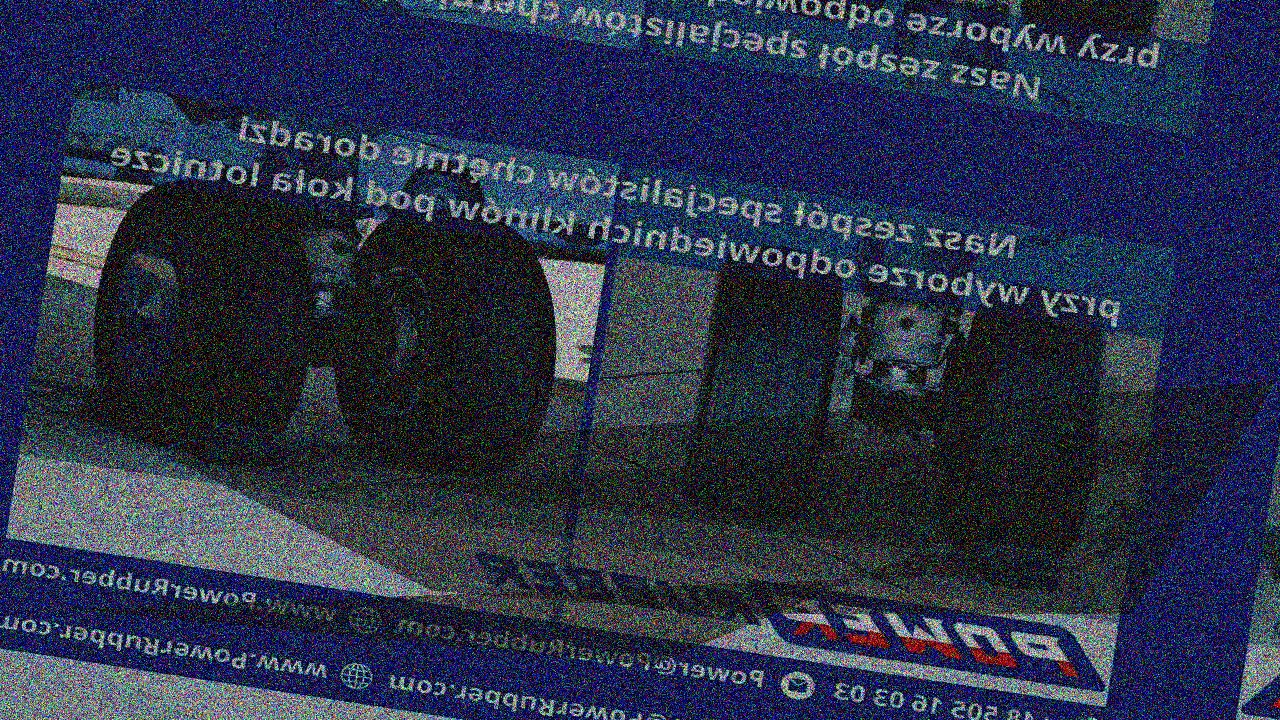chock: (962, 529, 1067, 600), (189, 411, 293, 476), (69, 381, 124, 431)
wheel: (76, 174, 333, 466), (323, 206, 576, 488), (934, 276, 1124, 568), (677, 239, 855, 528), (394, 159, 491, 227)
